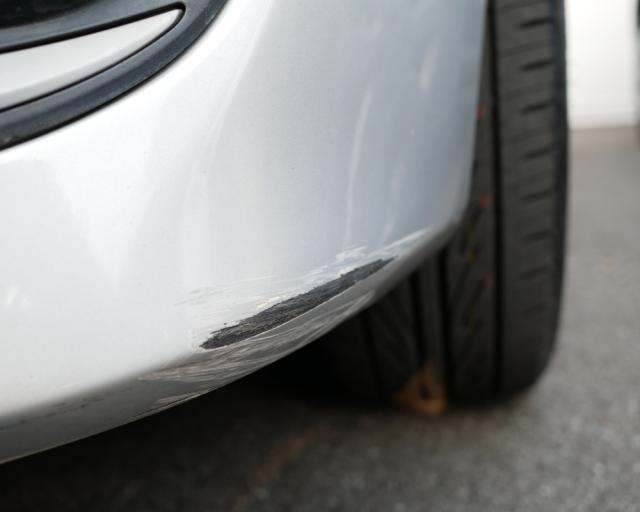scratch: (142, 218, 447, 409)
